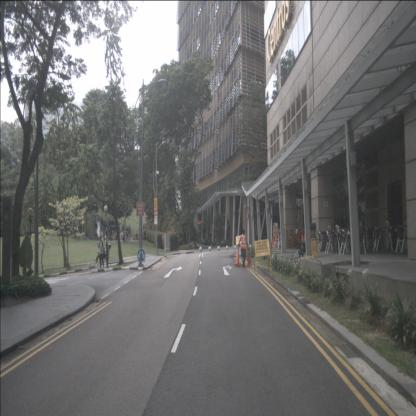cone: (246, 248, 252, 266), (234, 248, 240, 266), (300, 233, 305, 254), (271, 236, 276, 248)
